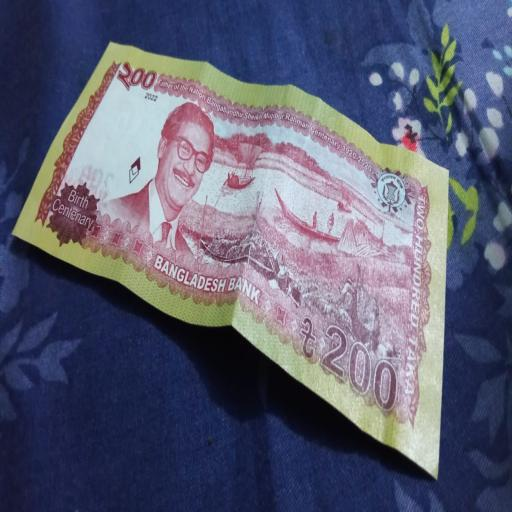200taka: (11, 43, 451, 479)
